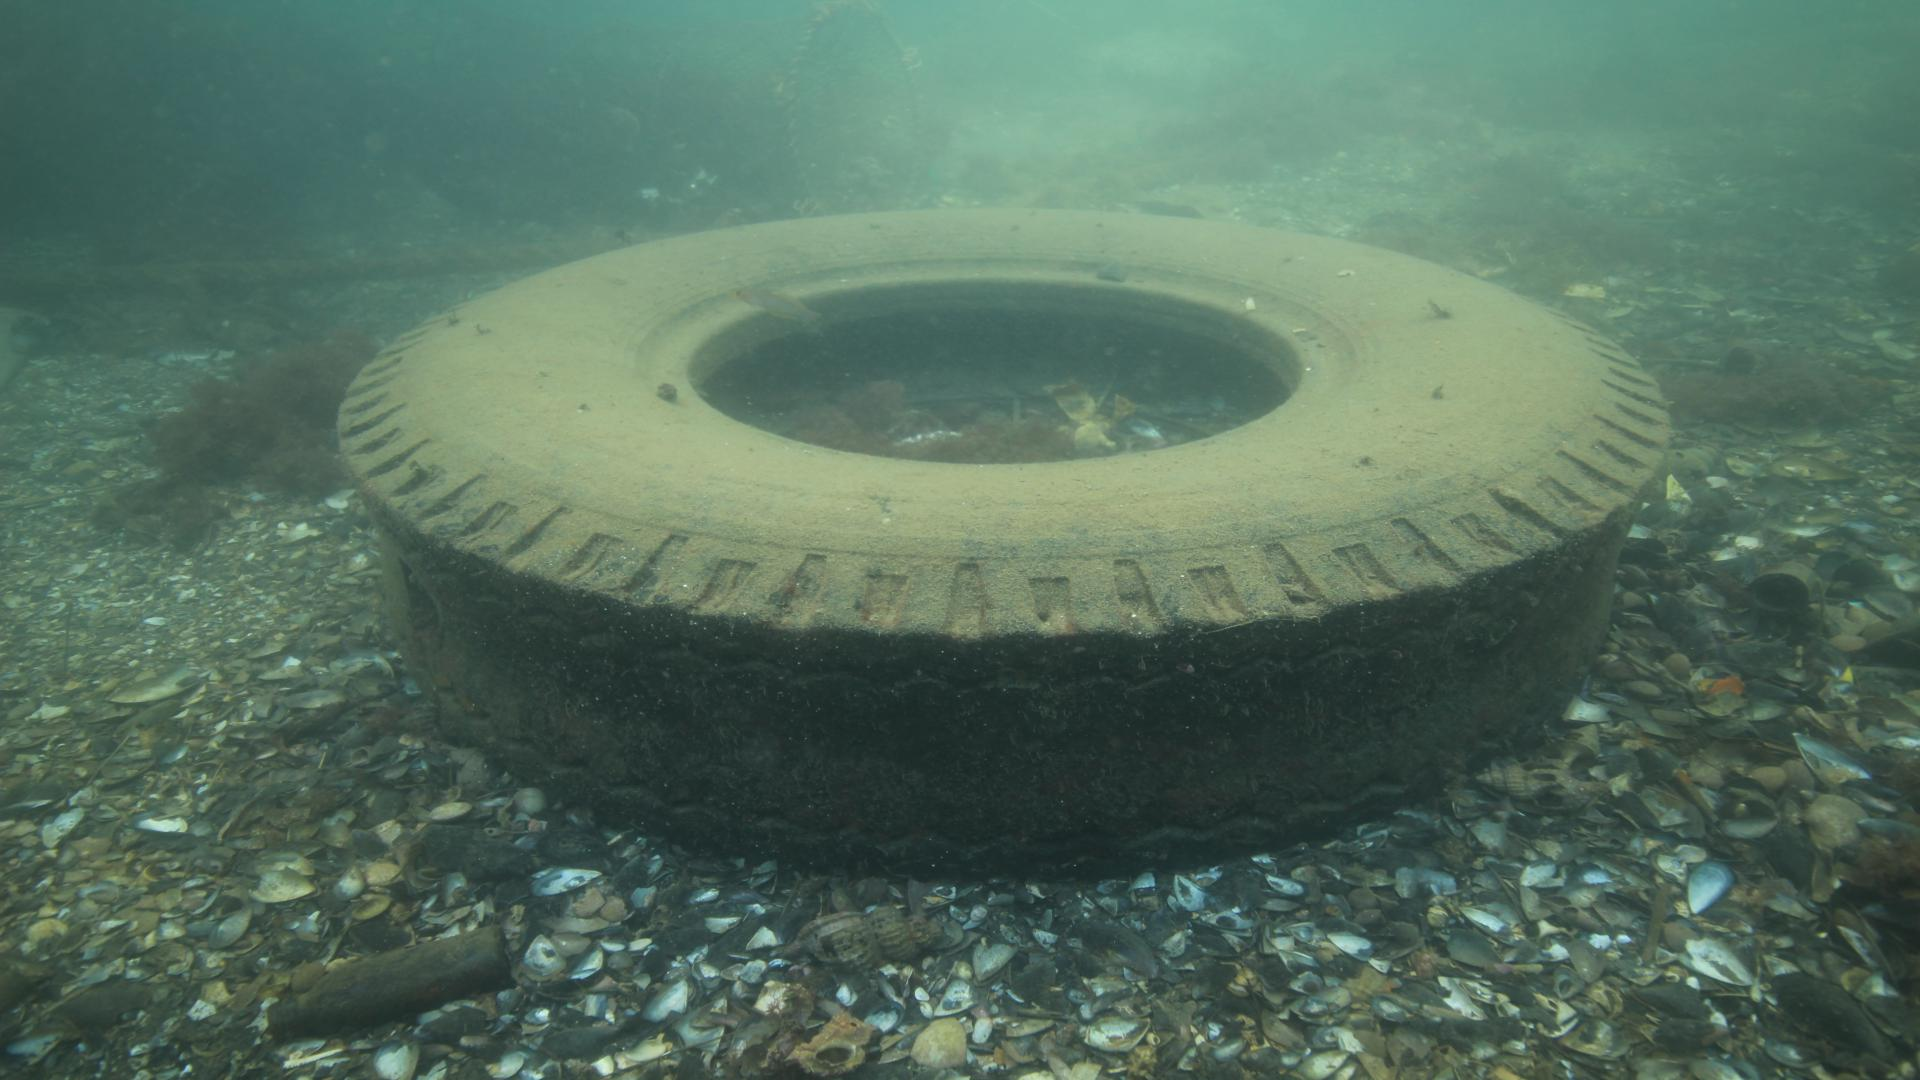tire: (334, 204, 1673, 885)
